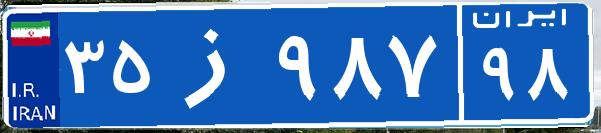3: (57, 26, 110, 107)
5: (110, 28, 158, 105)
7: (385, 28, 445, 110)
8: (330, 28, 385, 110), (525, 38, 570, 115)
9: (273, 28, 330, 110), (475, 38, 525, 113)
ز: (158, 15, 273, 115)
